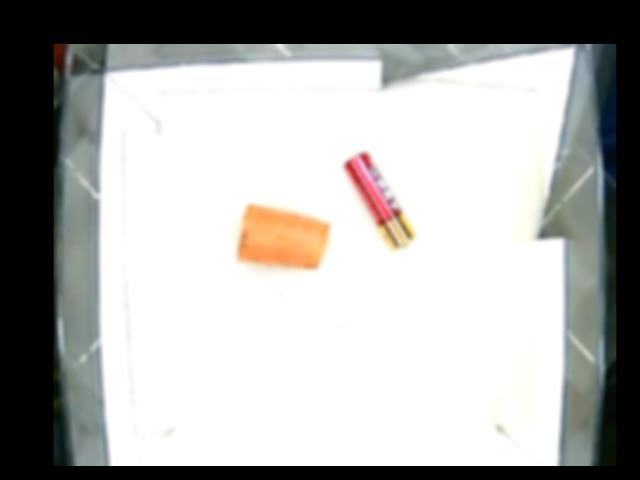Battery: (344, 153, 420, 250)
Carrot: (237, 202, 331, 270)
